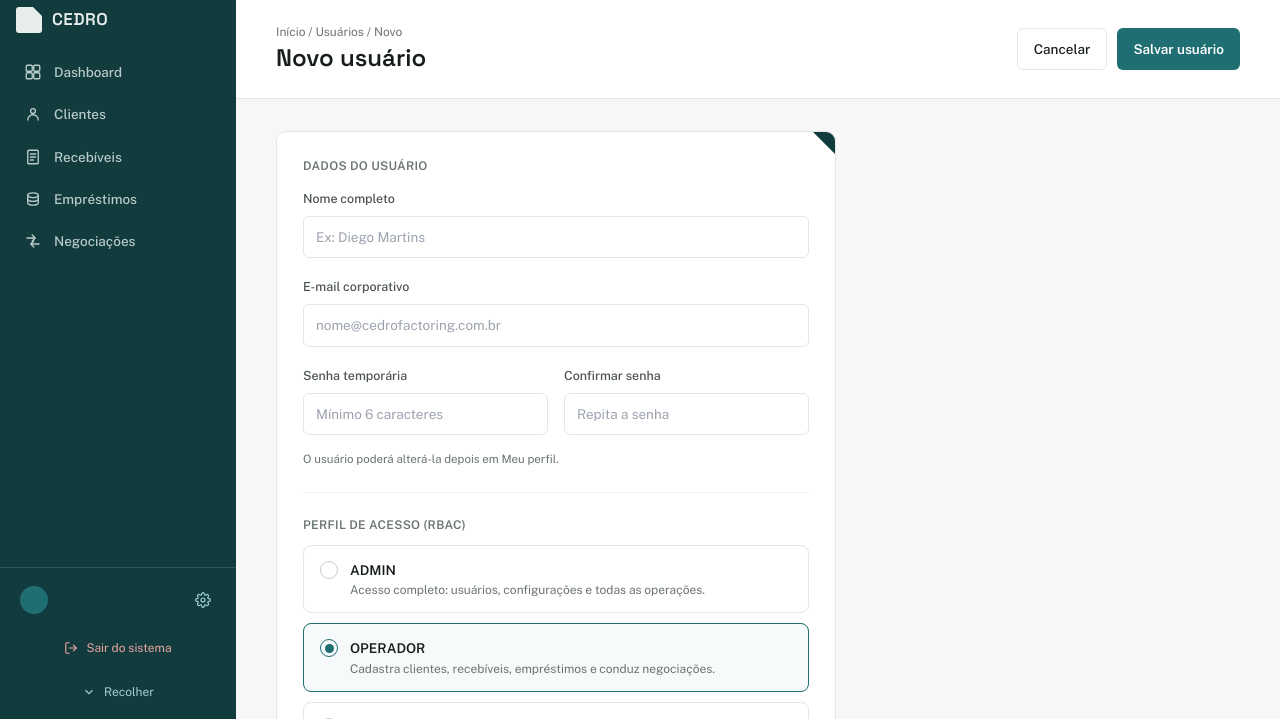
UsuarioFormPage › validates password confirmation and minimum length
Type "Diego Martins" into the field labelled "Nome completo" at (556, 237), box top-left (303, 216), bottom-right (809, 258)
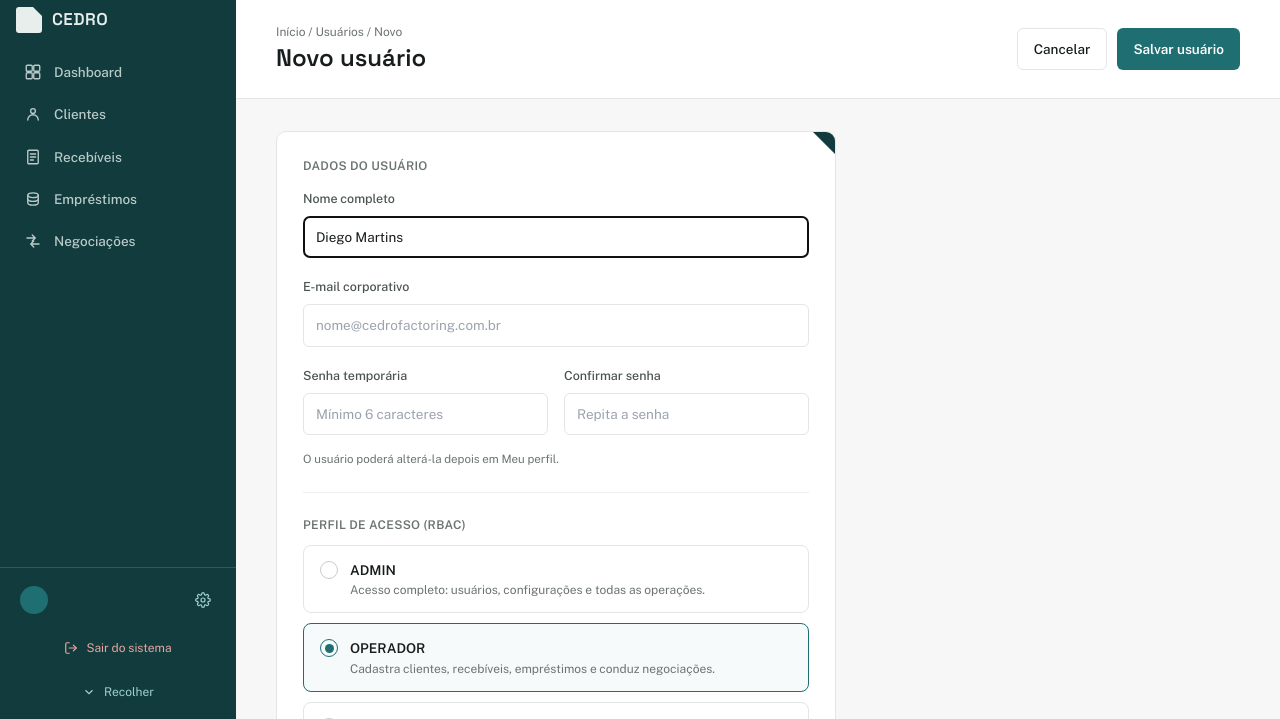
Type "diego.martins@cedrofactoring.com.br" into the field labelled "E-mail corporativo" at (556, 325), box top-left (303, 304), bottom-right (809, 347)
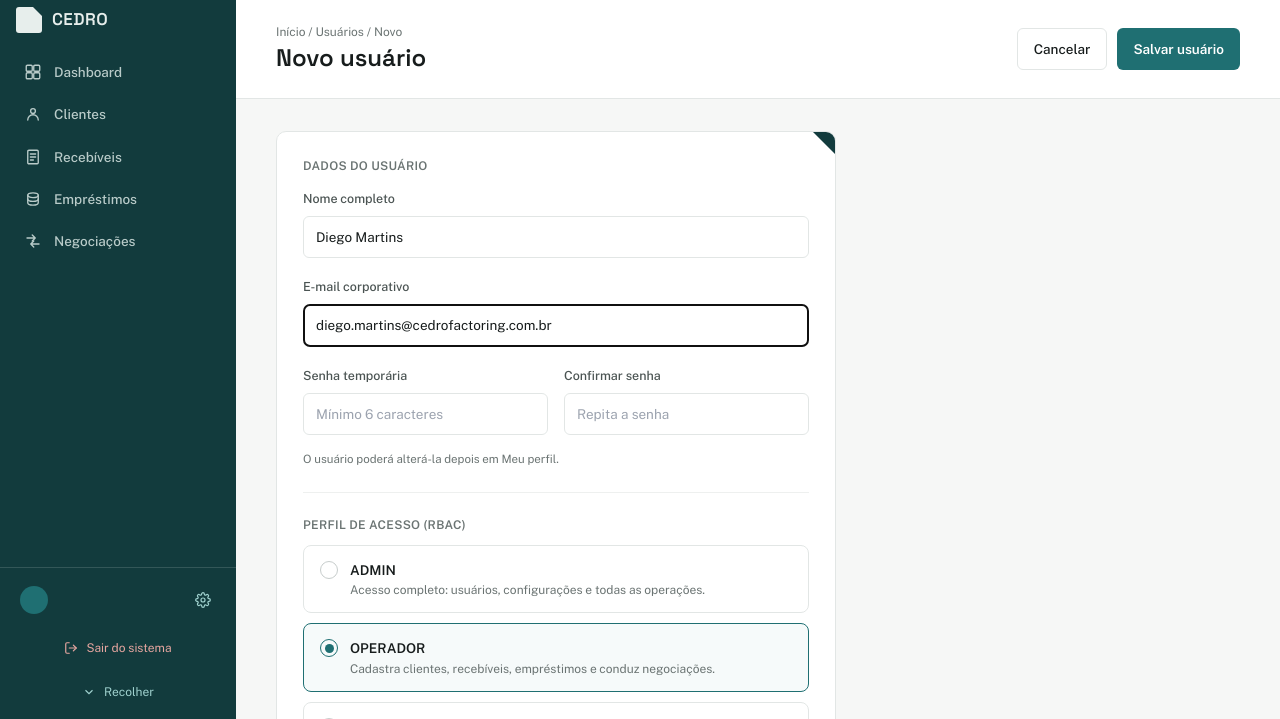
Type "abc" into the password field labelled "Senha temporária" at (426, 414), box top-left (303, 392), bottom-right (548, 435)
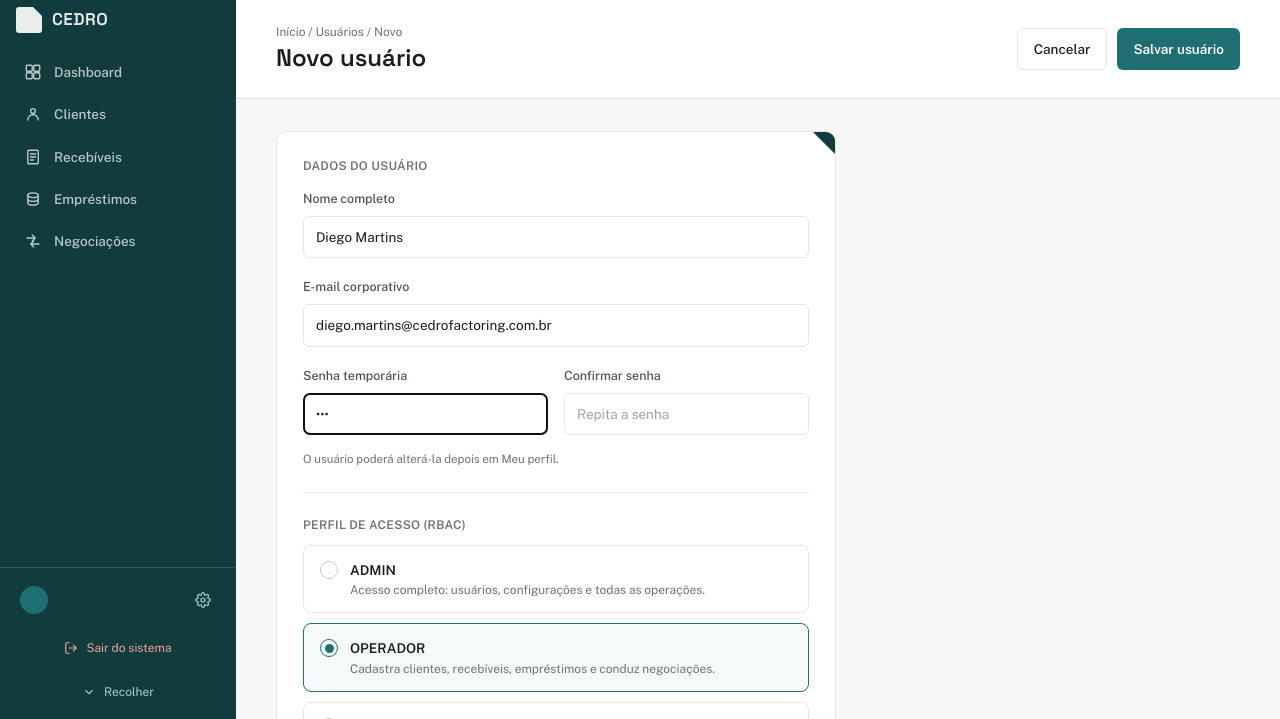
Type "xyz" into the password field labelled "Confirmar senha" at (686, 414), box top-left (564, 392), bottom-right (809, 435)
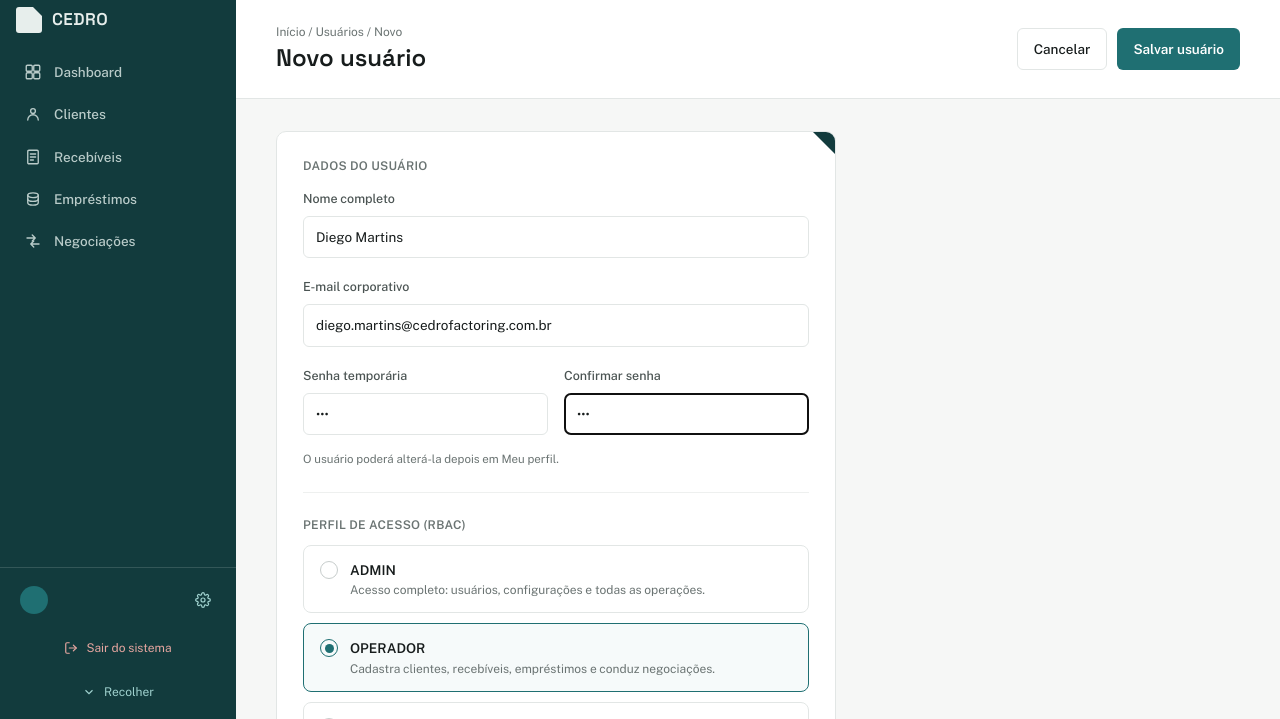
Click the button "Salvar usuário" at (1179, 49), box top-left (1117, 28), bottom-right (1240, 70)
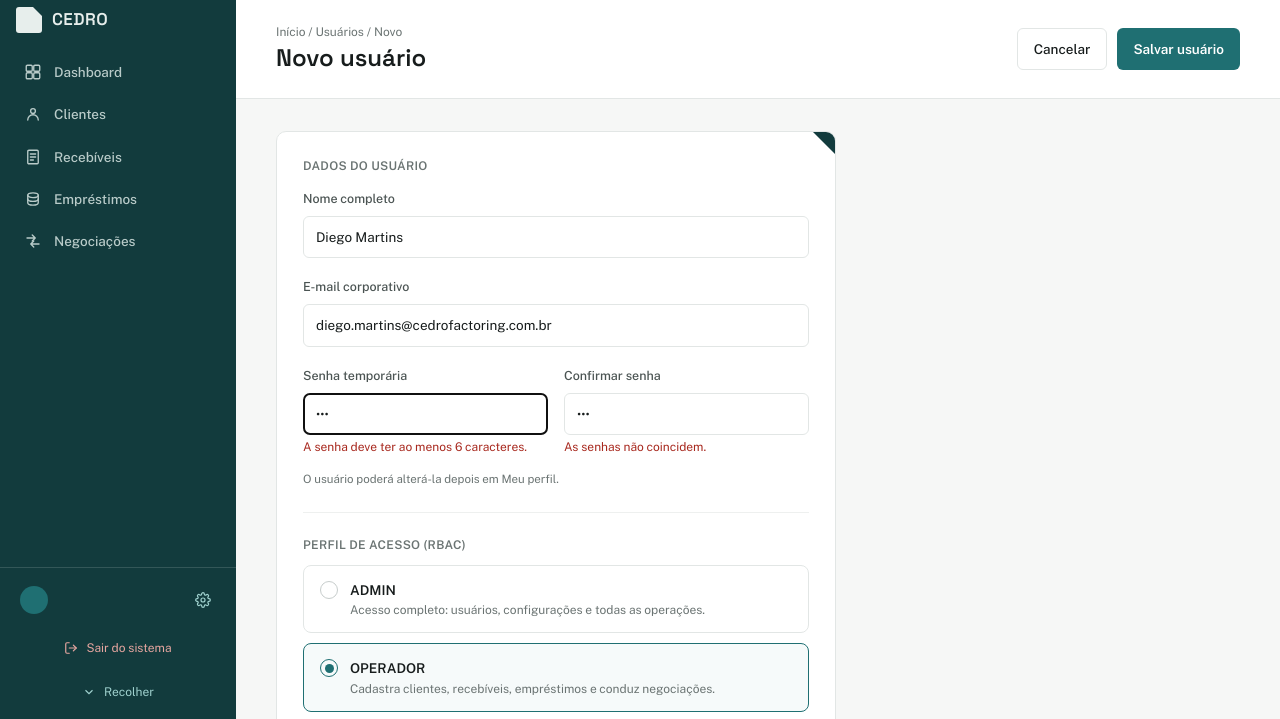
Check: the text "A senha deve ter ao menos 6 caracteres." is shown, box top-left (303, 439), bottom-right (548, 455)
Check: the text "As senhas não coincidem." is shown, box top-left (564, 440), bottom-right (706, 454)
